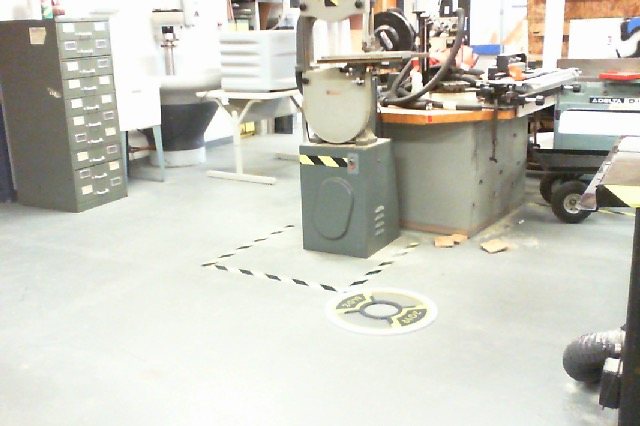Hatch: (329, 285, 438, 335)
